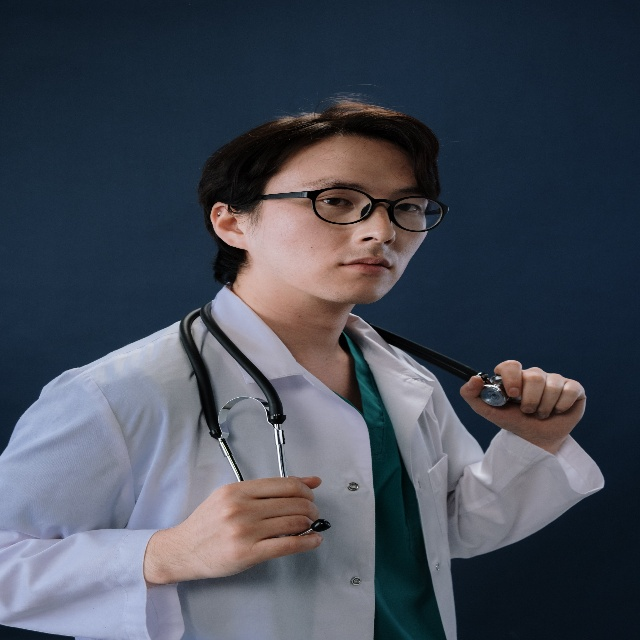Gafas: (255, 187, 451, 242)
Sin_guantes: (181, 476, 322, 581), (460, 357, 588, 455)
